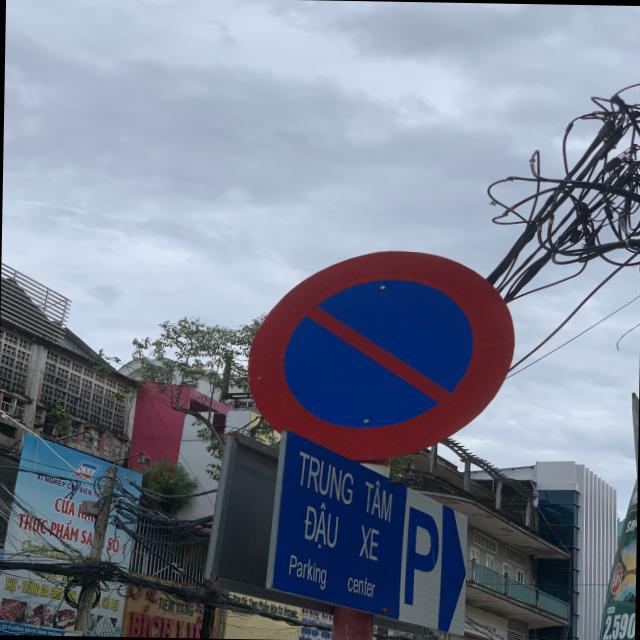Cam_Dau_Xe: (245, 247, 517, 462)
